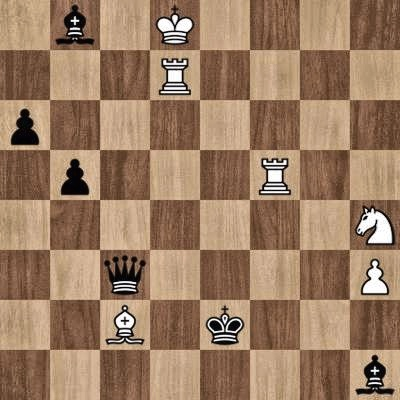black-bishop: (50, 0, 100, 50), (350, 350, 400, 400)
black-king: (200, 300, 250, 350)
black-pawn: (0, 100, 50, 150), (50, 150, 100, 200)
black-queen: (100, 250, 150, 300)
white-bishop: (100, 300, 150, 350)
white-king: (150, 0, 200, 50)
white-knight: (350, 200, 400, 250)
white-pawn: (350, 250, 400, 300)
white-rook: (150, 50, 200, 100), (250, 150, 300, 200)
